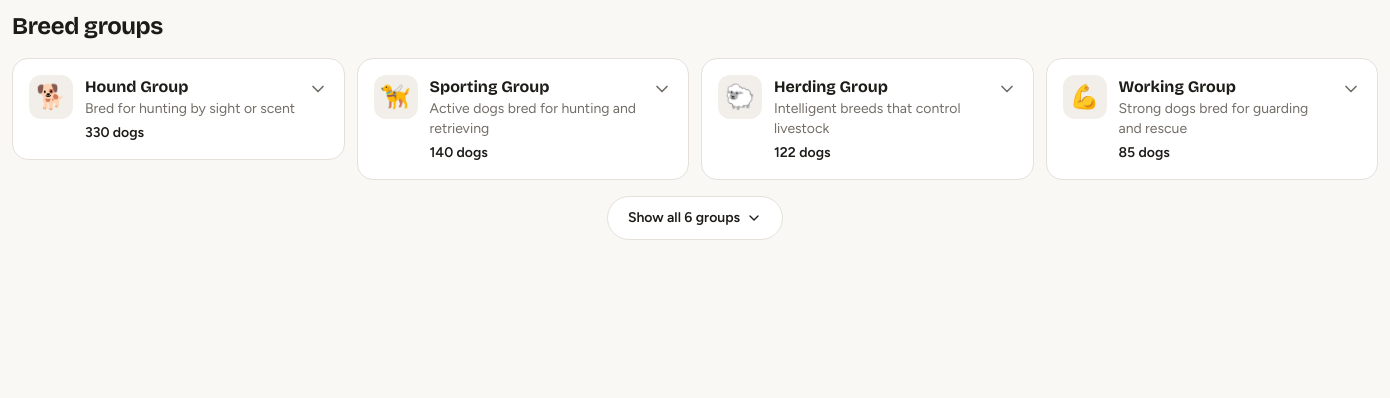
Test: BreedGroupsSection › shows top breeds when group is clicked
The width and height of the screenshot is (1390, 398).
Click the button with test id "breed-group-hound-group" at x=178, y=109, box x1=13 y1=59 x2=344 y2=159
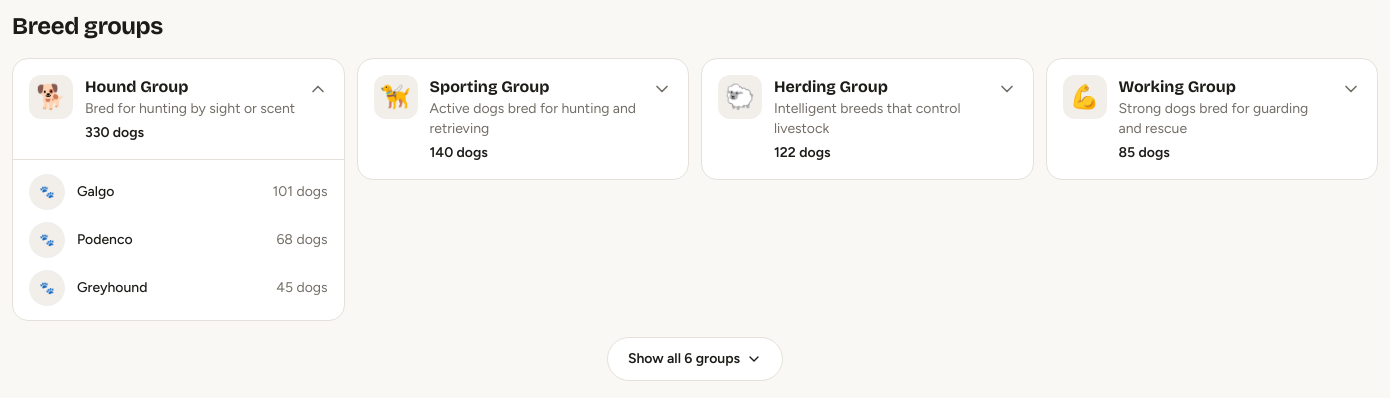
Now the text "Galgo" is shown, box x1=77 y1=182 x2=114 y2=202
Now the text "101 dogs" is shown, box x1=272 y1=182 x2=328 y2=202
Now the text "Podenco" is shown, box x1=77 y1=230 x2=133 y2=250
